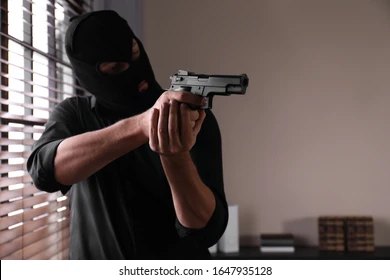gun: (150, 57, 257, 158)
